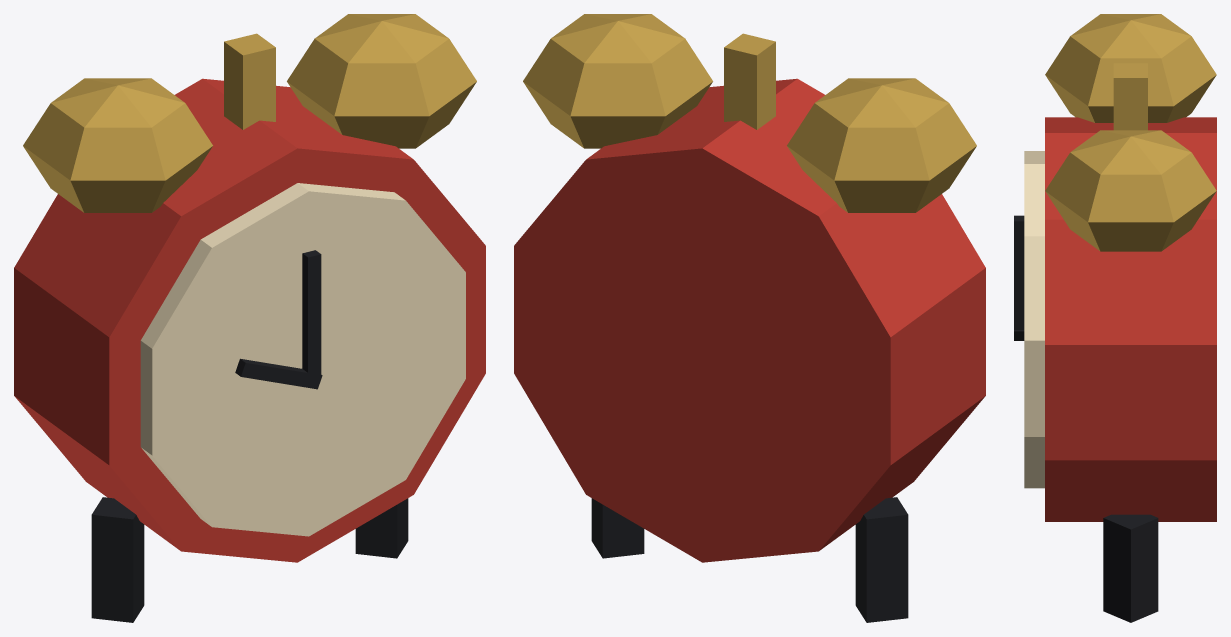
The model's file is alarmClock.fbx.
3 views of the same model, side by side, from view 1: azimuth 30°, elevation 25°; view 2: azimuth 150°, elevation 25°; view 3: azimuth 270°, elevation 25° (orthographic). The views are drawn at different scales.
Visible parts, largest first — view 1: alarmClock; view 2: alarmClock; view 3: alarmClock.
Part boxes in pixels (<box>): alarmClock: <box>14,14,485,622</box>; alarmClock: <box>514,14,985,622</box>; alarmClock: <box>1014,14,1216,622</box>.
Size of the model in its own units: 0.4932 by 0.62 by 0.236.
